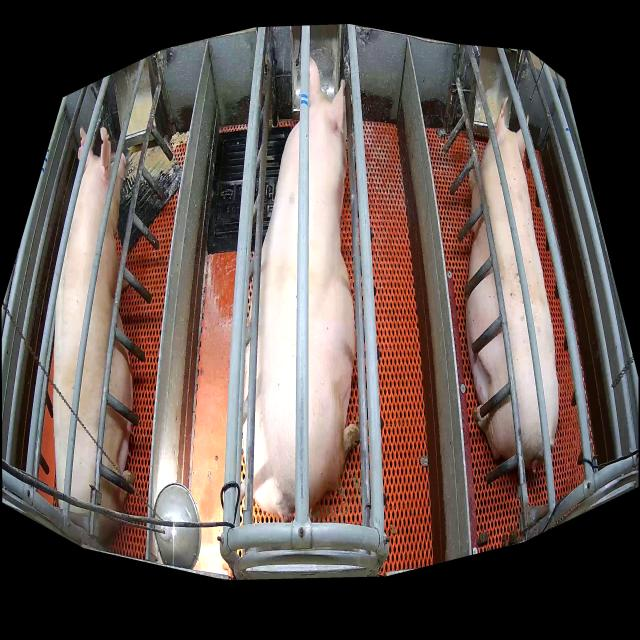pig: (254, 56, 360, 522), (466, 95, 559, 467), (53, 126, 136, 535)
